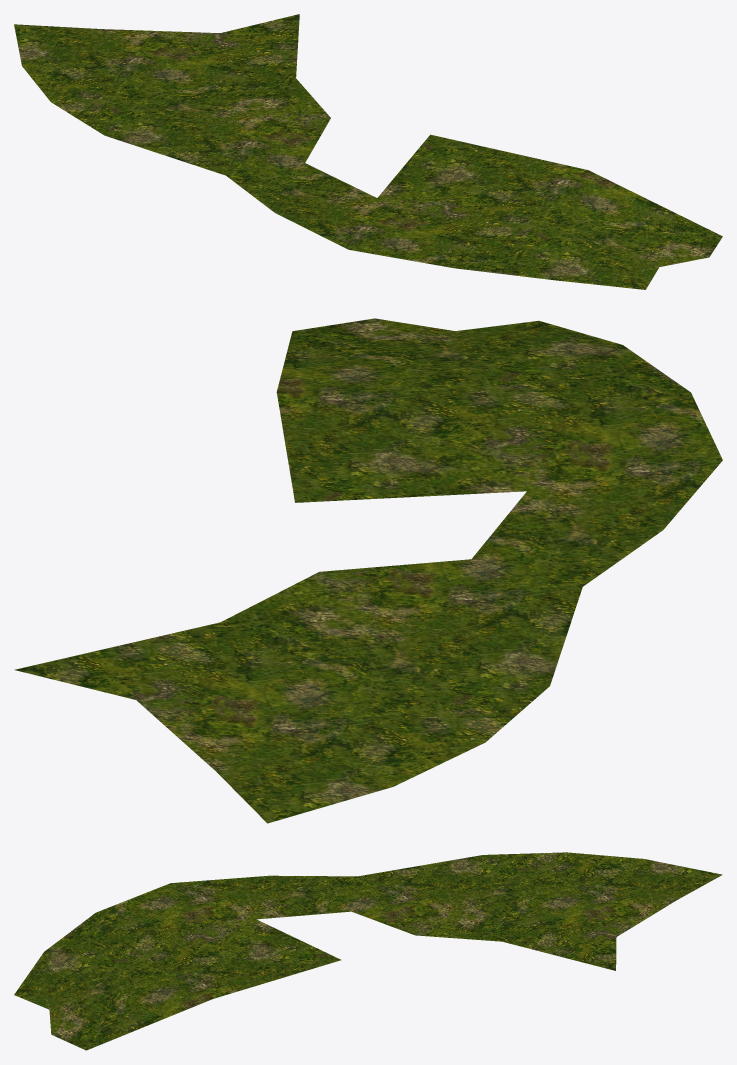
The model's file is OVERHILL_A_01_OBJECT06.fbx.
3 views of the same model, one above another, from view 1: azimuth 30°, elevation 25°; view 2: azimuth 150°, elevation 25°; view 3: azimuth 270°, elevation 25° (orthographic). The views are drawn at different scales.
Visible parts, largest first — view 1: OVERHILL_A_01_OBJECT06; view 2: OVERHILL_A_01_OBJECT06; view 3: OVERHILL_A_01_OBJECT06.
Boxes of the visible parts, x1=… form: OVERHILL_A_01_OBJECT06: x1=14, y1=14, x2=722, y2=289; OVERHILL_A_01_OBJECT06: x1=14, y1=318, x2=722, y2=823; OVERHILL_A_01_OBJECT06: x1=14, y1=852, x2=722, y2=1050.
Size of the model in its own units: 40203 by 3016 by 70540.
Materials: 1 (1 with a texture image).
